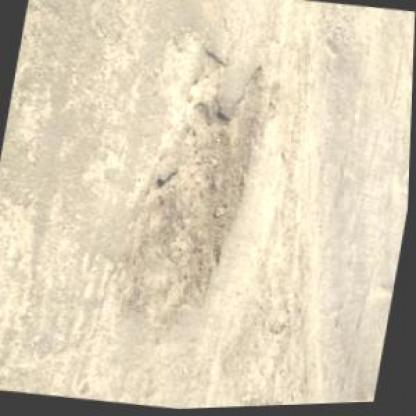pothole: (111, 43, 277, 344)
